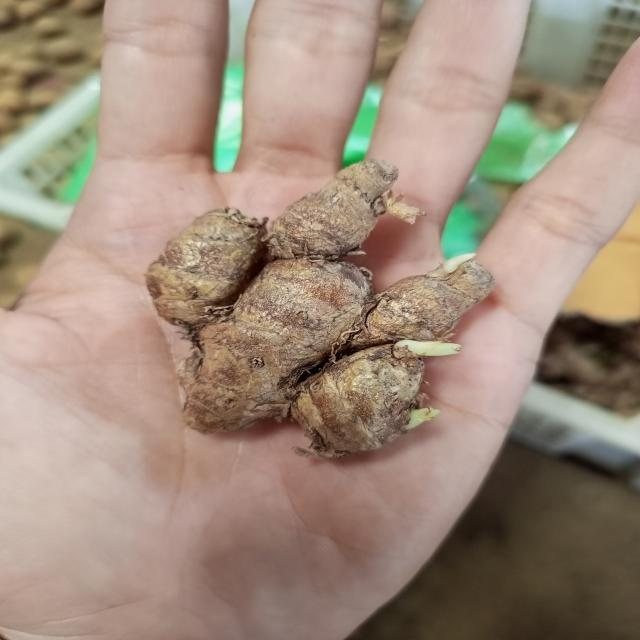ginger: (160, 161, 475, 440)
